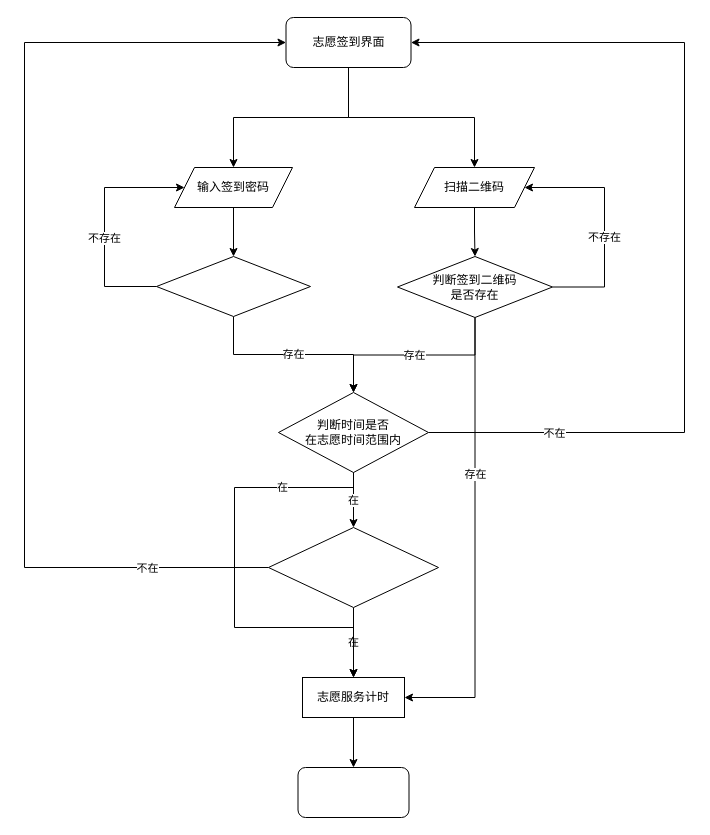
The diagram is 710 pixels wide and 835 high, and some of its shapes have lost their labels. Each missing label, with the box of its shape:
判断地理位置是否 在服务范围内: (268, 526, 438, 608)
判断签到密码 是否存在: (156, 256, 310, 316)
结束计时 更新数据库: (297, 766, 409, 818)
